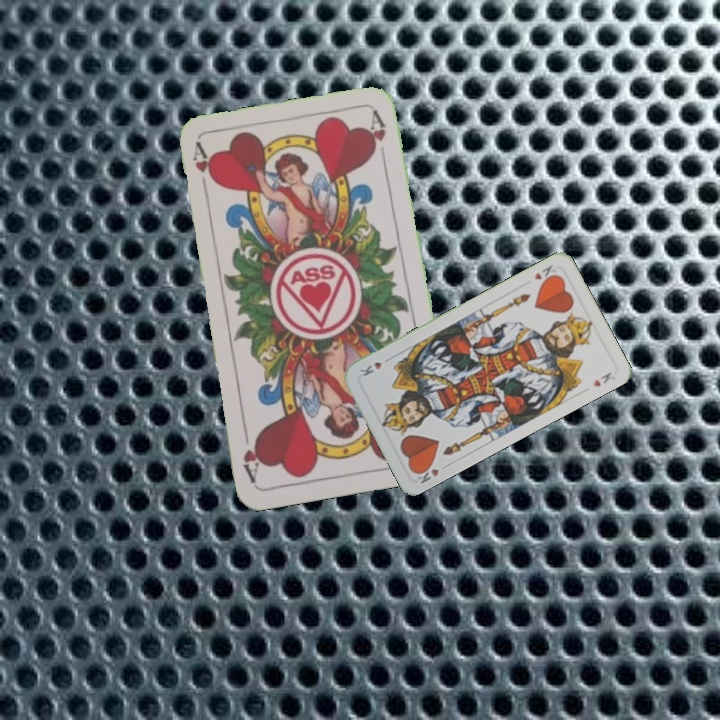HA: (188, 140, 215, 199)
HK: (410, 460, 451, 486), (530, 261, 560, 286)
